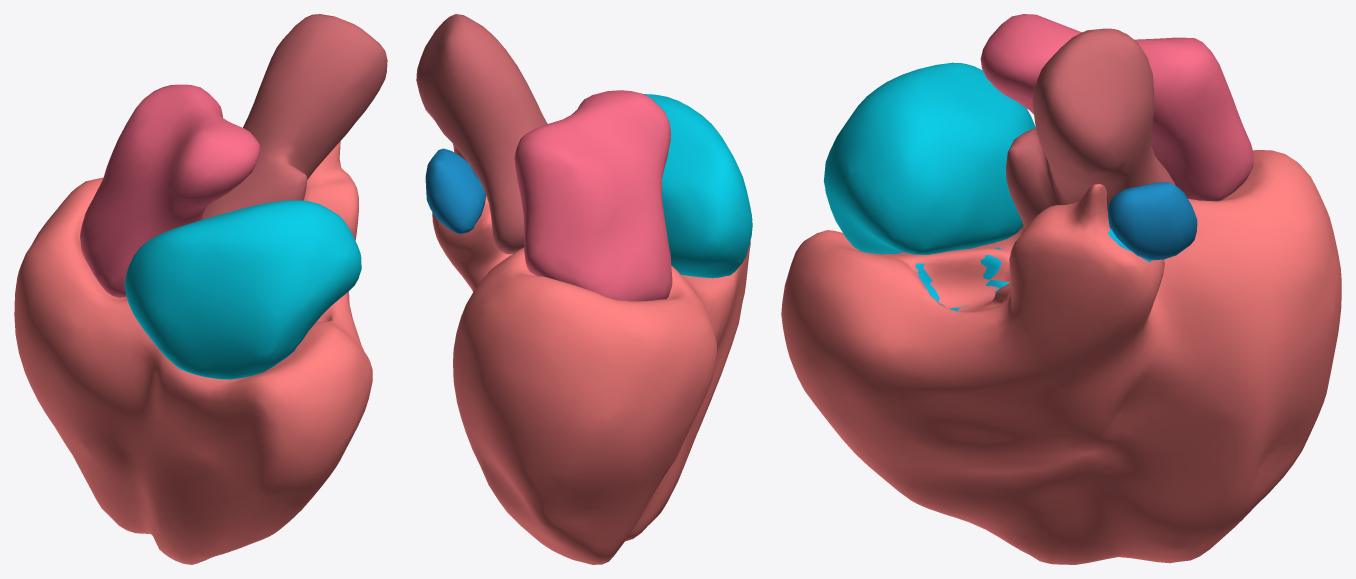
The model's file is frame_17.glb.
3 renders of one model, left to right at view 1: azimuth 30°, elevation 25°; view 2: azimuth 150°, elevation 25°; view 3: azimuth 270°, elevation 25°, orthographic. The views are drawn at different scales.
Visible parts, largest first — view 1: Renderer Node; view 2: Renderer Node; view 3: Renderer Node.
Part boxes in pixels (x1=…): Renderer Node: x1=14, y1=14, x2=387, y2=564; Renderer Node: x1=416, y1=14, x2=752, y2=564; Renderer Node: x1=781, y1=14, x2=1341, y2=564.
Size of the model in its own units: 104 by 159 by 128.
